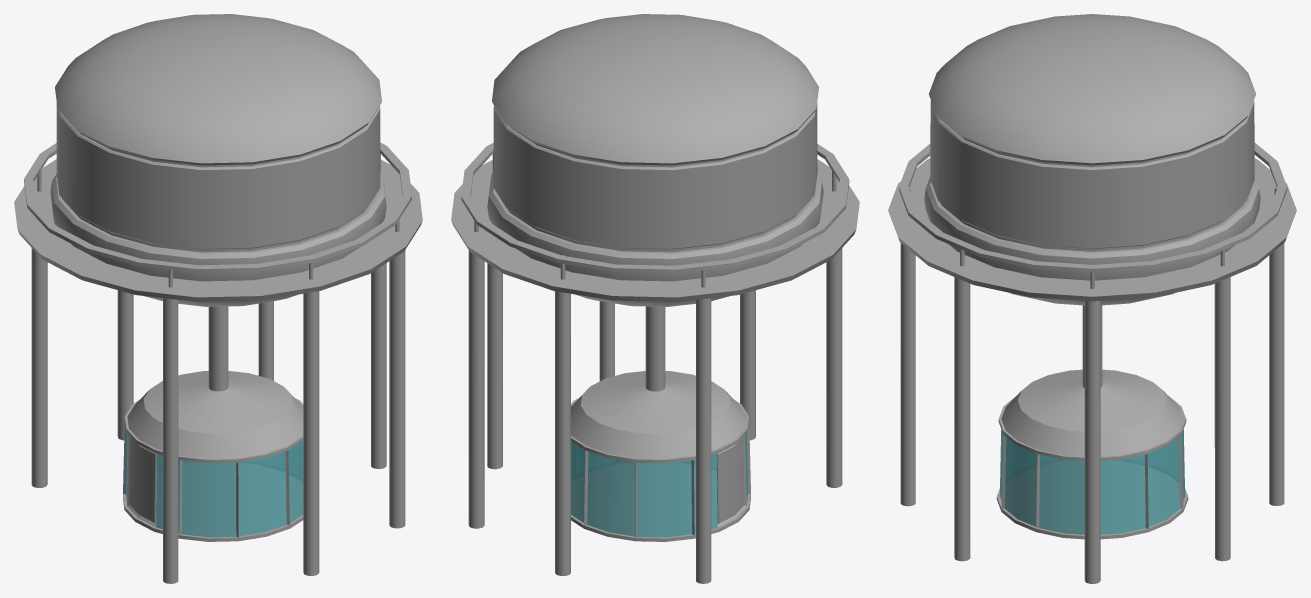
The model's file is water tower.fbx.
3 views of the same model, side by side, from view 1: azimuth 30°, elevation 25°; view 2: azimuth 150°, elevation 25°; view 3: azimuth 270°, elevation 25° (orthographic).
Parts seen in each view (by area): view 1: pCylinder13; view 2: pCylinder13; view 3: pCylinder13.
Boxes of the visible parts, x1=… form: pCylinder13: x1=14, y1=14, x2=422, y2=583; pCylinder13: x1=451, y1=14, x2=859, y2=583; pCylinder13: x1=888, y1=14, x2=1296, y2=583.
Bounding box in the file's own units: 1242 × 1522 × 1242.
